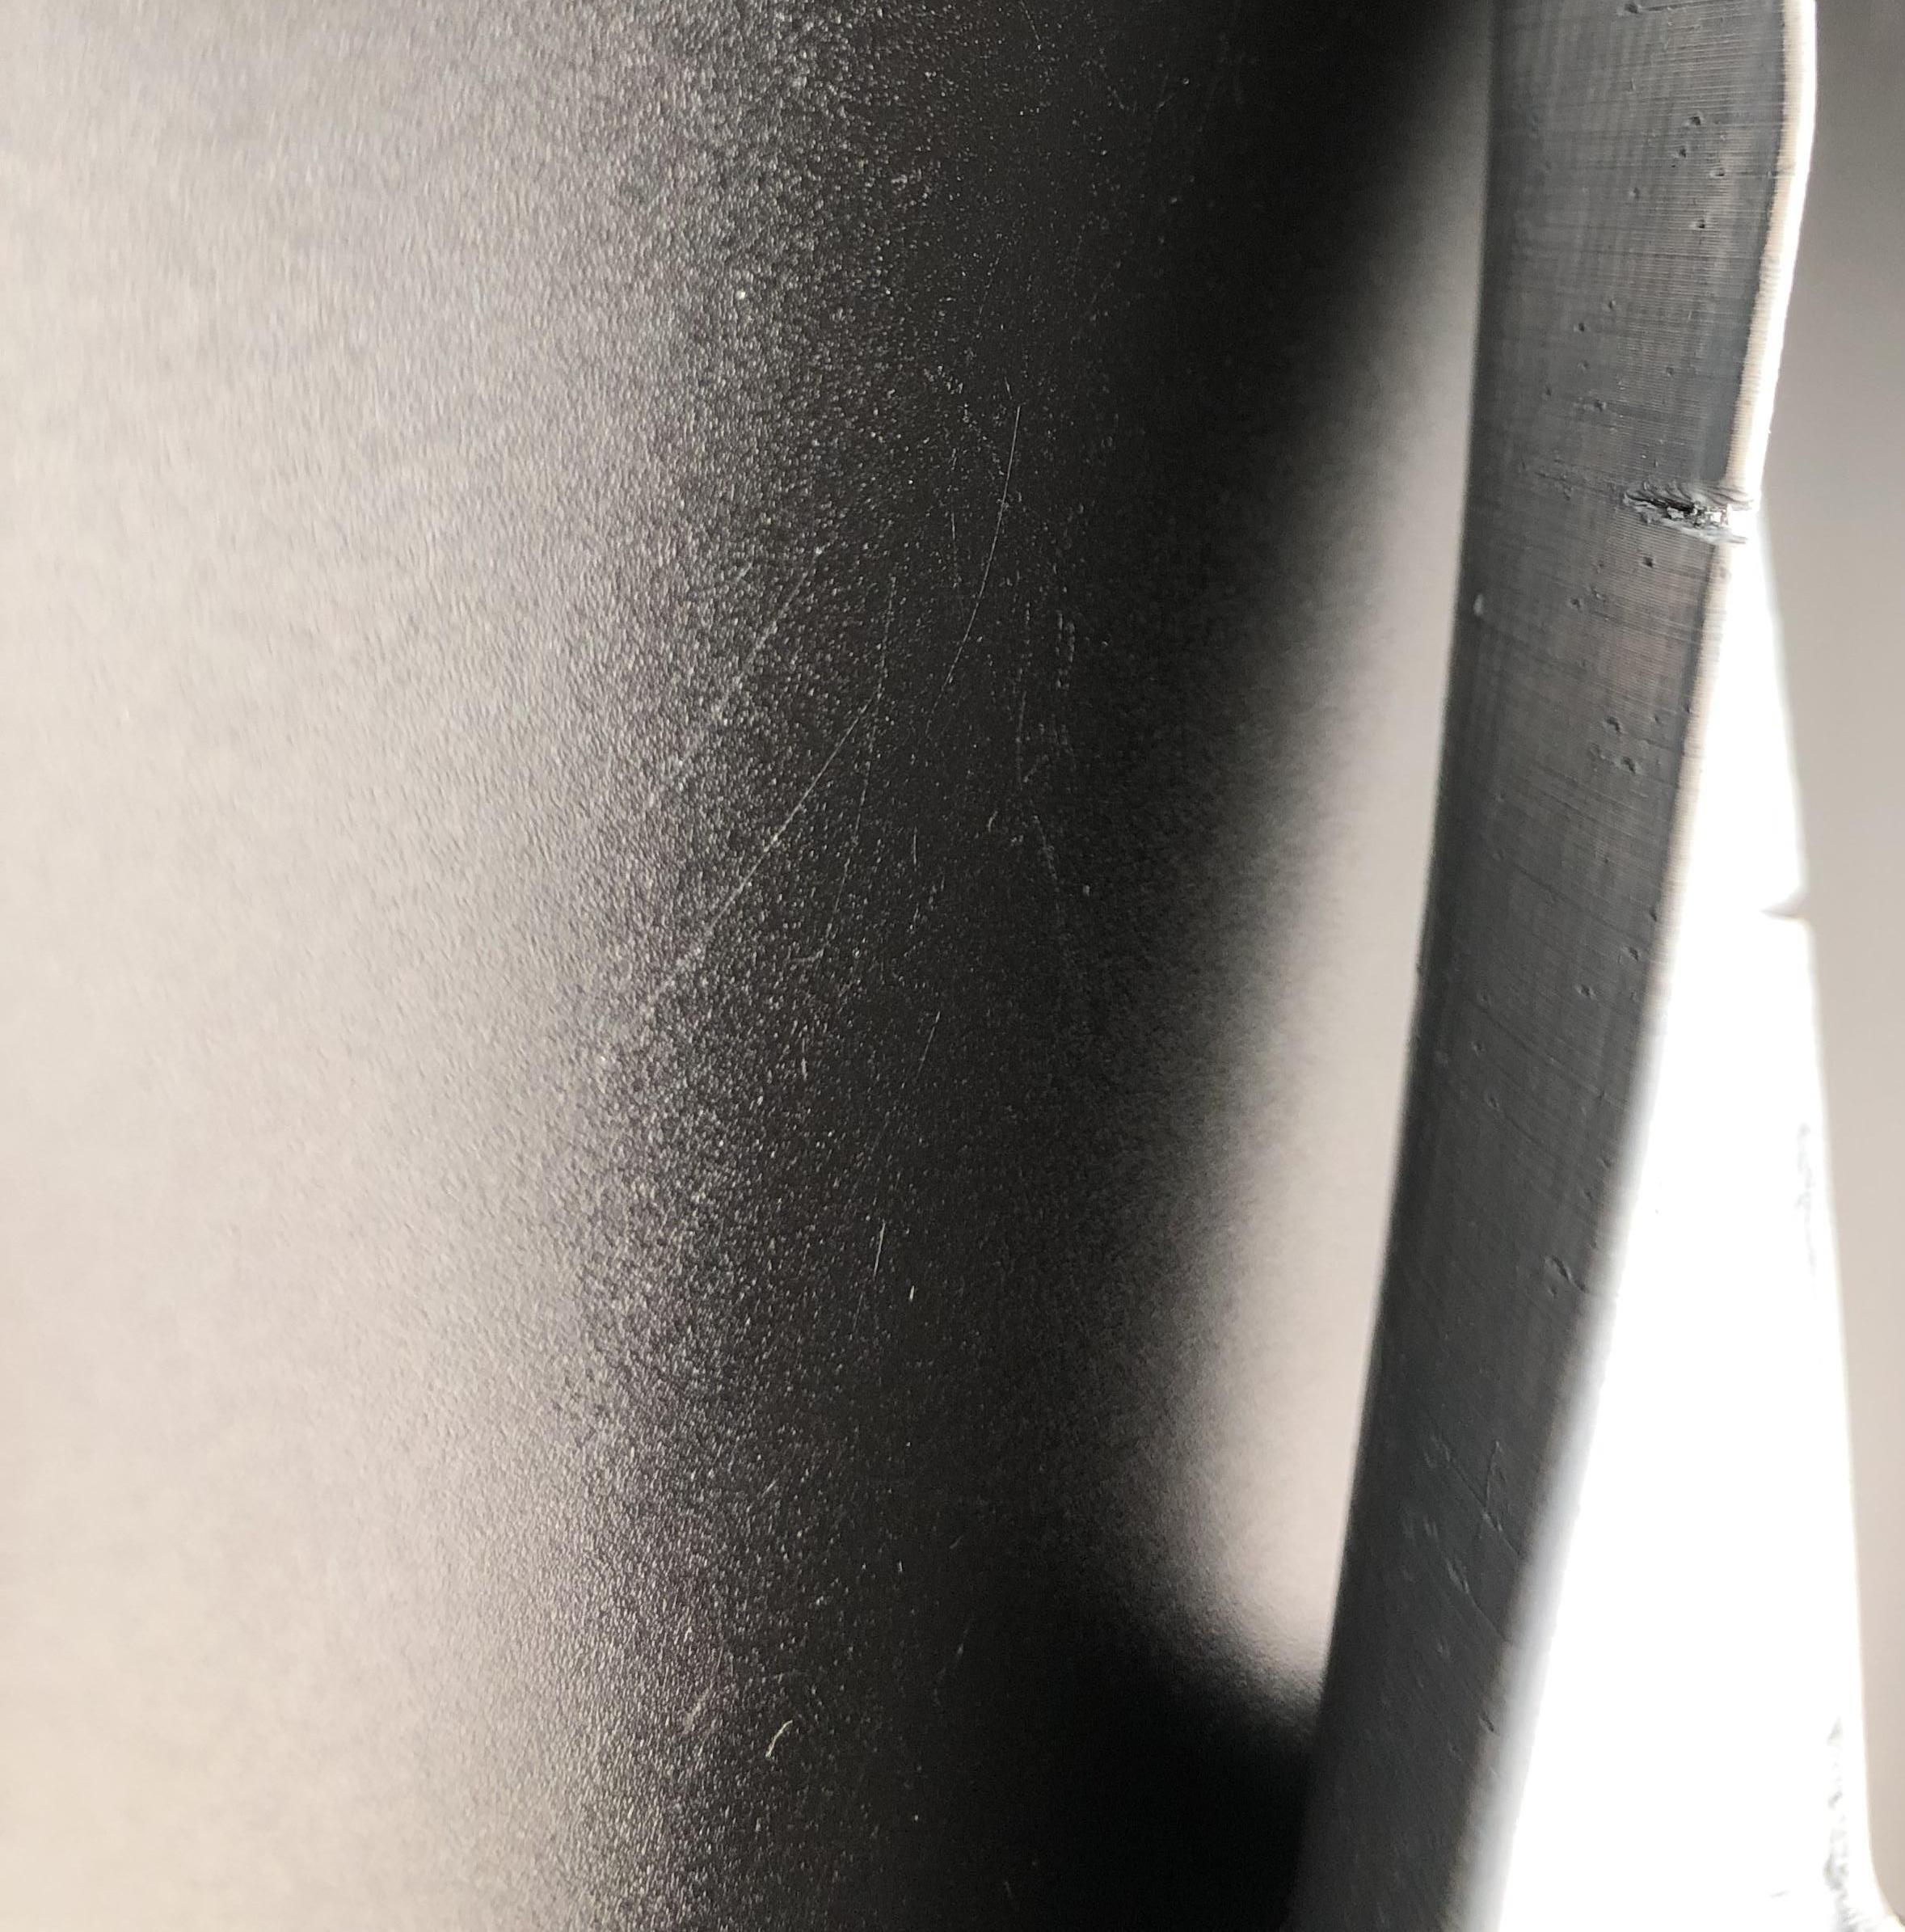groove: (1621, 469, 1762, 546), (1751, 867, 1826, 942)
